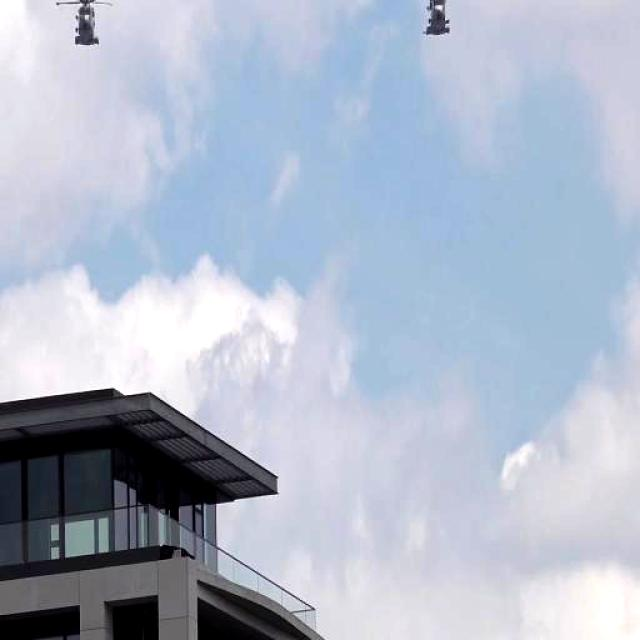drone: (44, 0, 132, 46), (390, 0, 481, 40)
